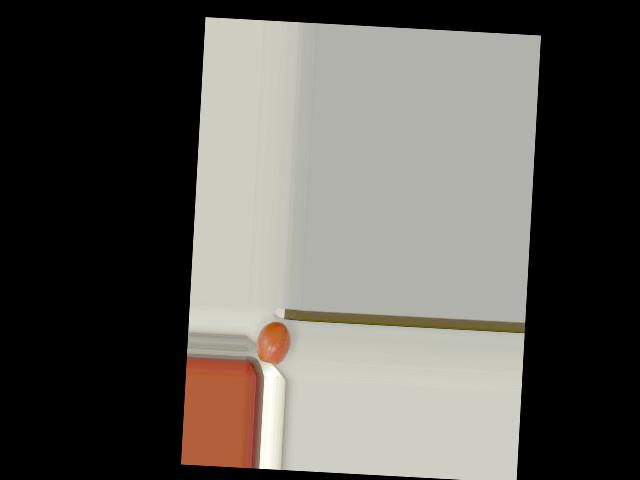tomato: (255, 320, 291, 365)
